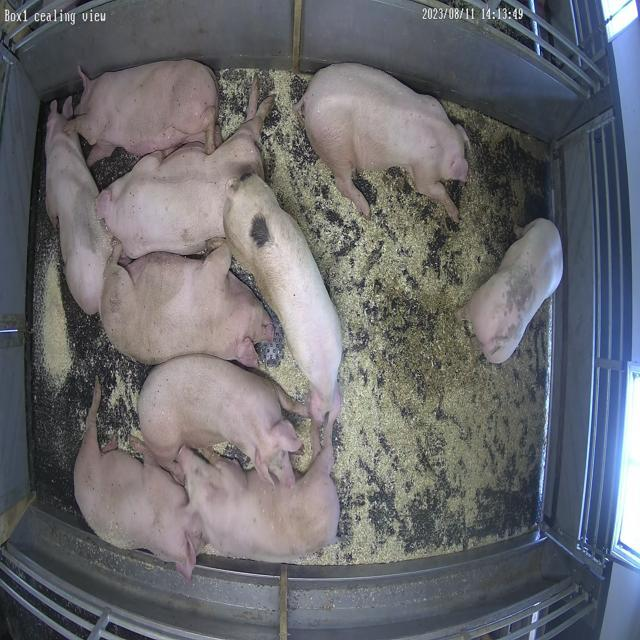Dirt: (445, 102, 547, 260), (44, 98, 112, 314), (364, 263, 467, 402)
Pig: (96, 82, 275, 258), (224, 176, 343, 430), (296, 63, 470, 222), (100, 242, 273, 368), (66, 59, 221, 166), (459, 218, 563, 364)
